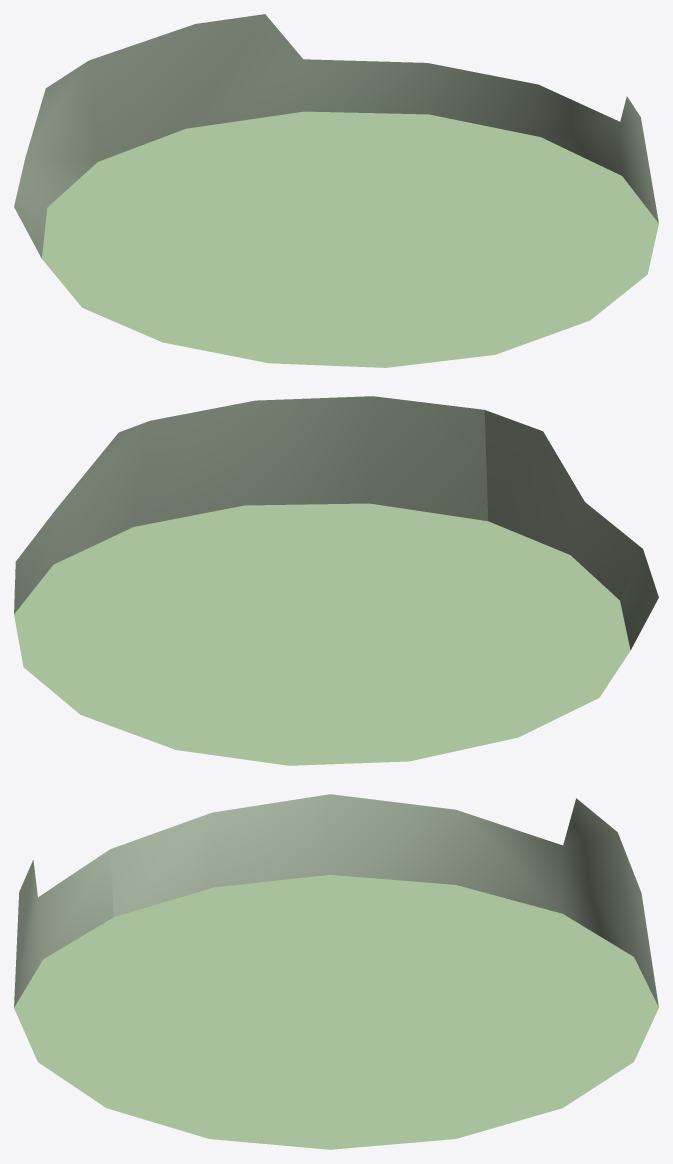
The model's file is RaveCaveGeyserInnerB1.glb.
3 renders of one model, top to bottom at view 1: azimuth 30°, elevation 25°; view 2: azimuth 150°, elevation 25°; view 3: azimuth 270°, elevation 25°, orthographic. The views are drawn at different scales.
Parts seen in each view (by area): view 1: RaveCaveGeyserInnerB1; view 2: RaveCaveGeyserInnerB1; view 3: RaveCaveGeyserInnerB1.
Boxes of the visible parts, x1=… form: RaveCaveGeyserInnerB1: x1=14, y1=14, x2=658, y2=367; RaveCaveGeyserInnerB1: x1=14, y1=396, x2=658, y2=765; RaveCaveGeyserInnerB1: x1=14, y1=794, x2=658, y2=1149.
Bounding box in the file's own units: 2.51 × 0.4778 × 2.36.
